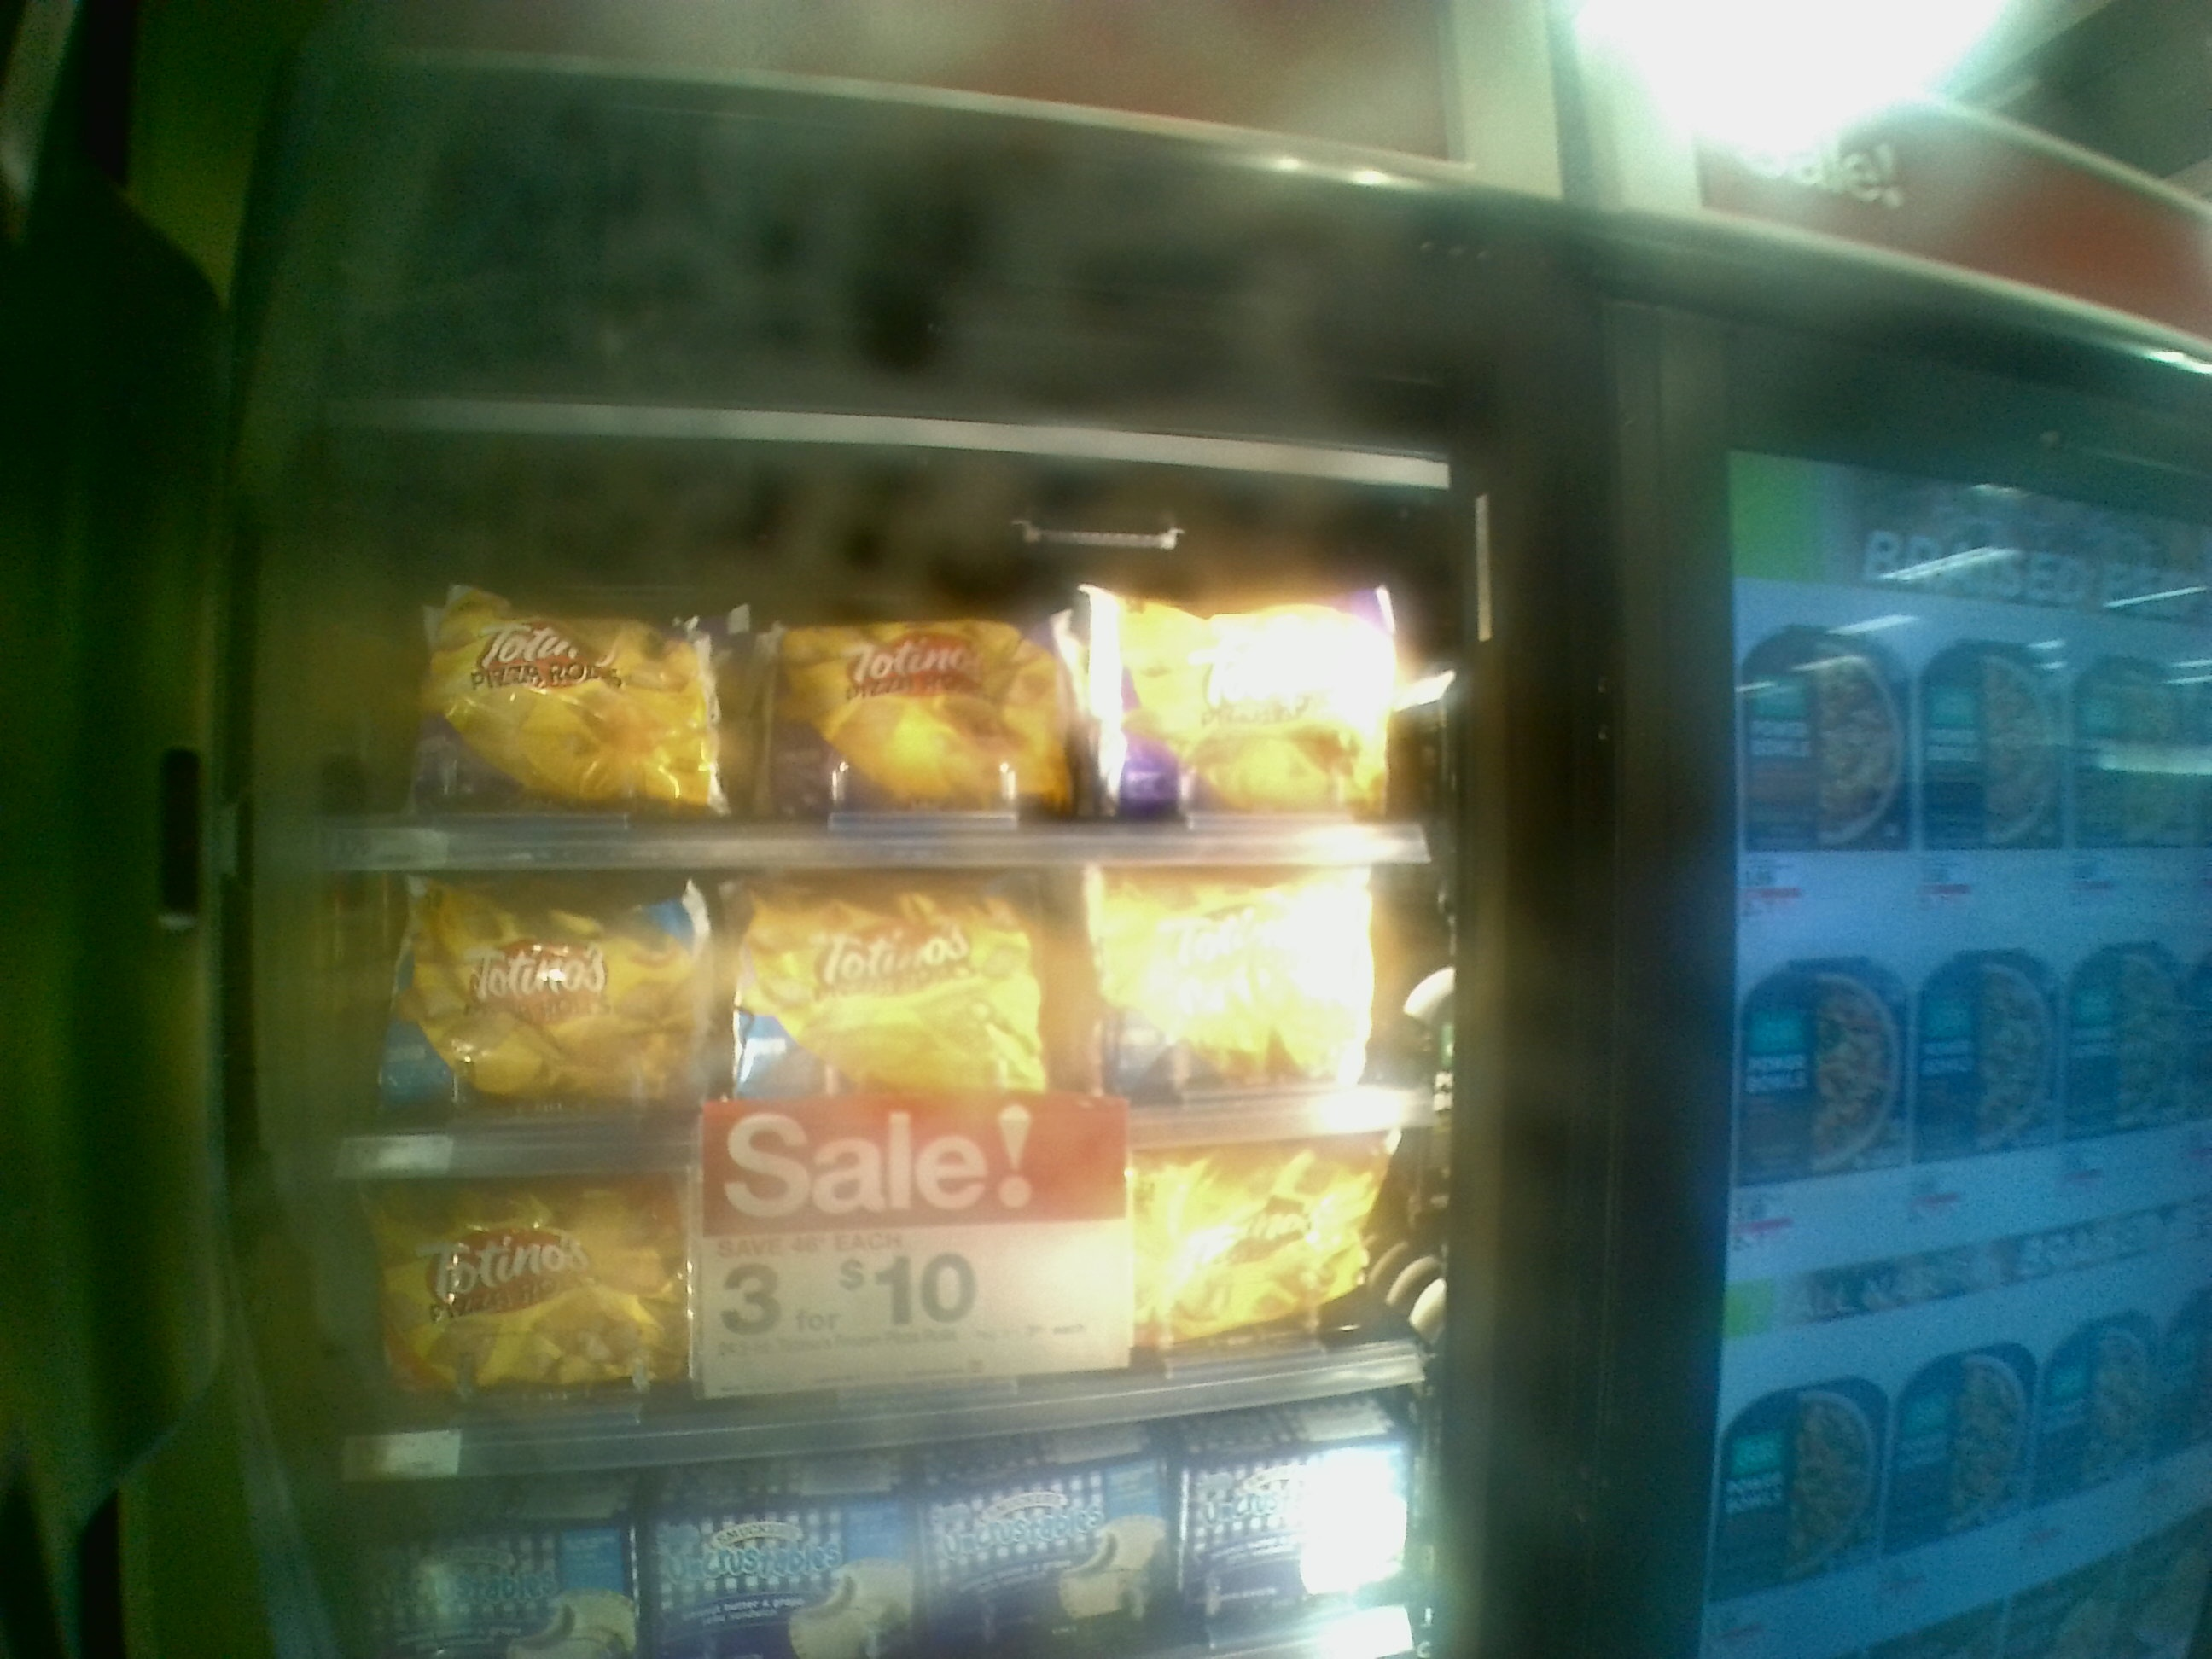shelf: (305, 413, 1467, 868), (308, 866, 1454, 1190)
